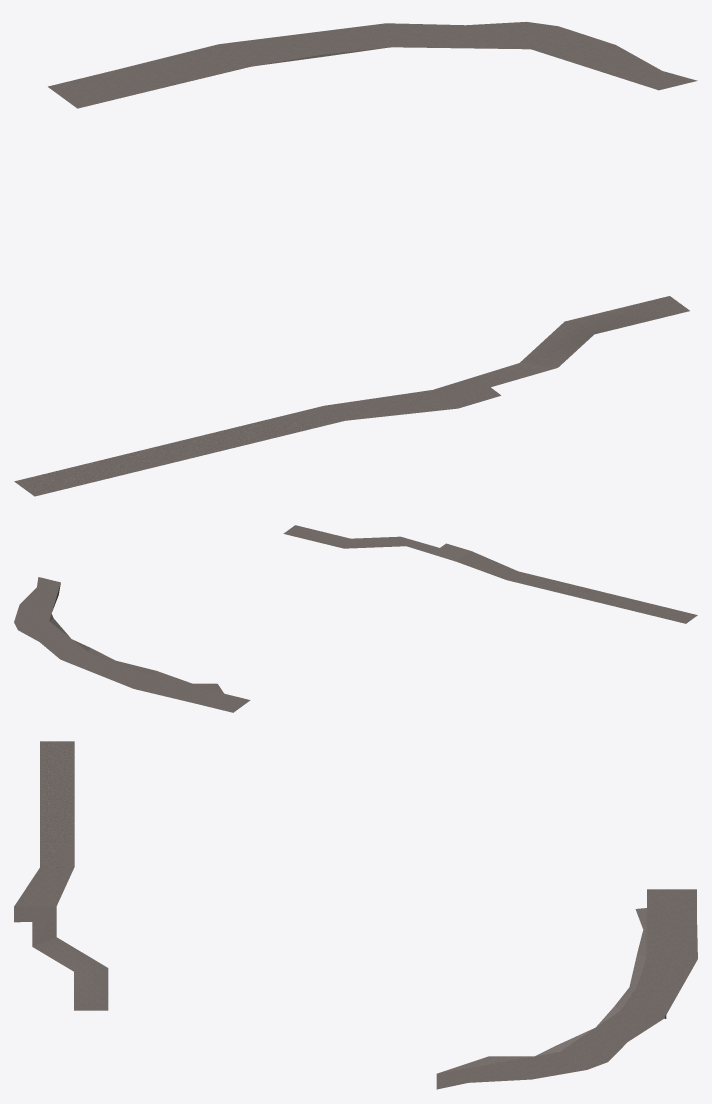
Rendered from kd_stage_136282_1_23.glb.
The picture shows the model from 3 angles, top to bottom: view 1: azimuth 30°, elevation 25°; view 2: azimuth 150°, elevation 25°; view 3: azimuth 270°, elevation 25°; orthographic projection. The views are drawn at different scales.
Parts seen in each view (by area): view 1: kd_stage_136282_1_23; view 2: kd_stage_136282_1_23; view 3: kd_stage_136282_1_23.
Part boxes in pixels (box(x1,y1,x2,y2)): kd_stage_136282_1_23: box(14, 21, 697, 496); kd_stage_136282_1_23: box(14, 525, 697, 712); kd_stage_136282_1_23: box(14, 741, 697, 1089).
Bounding box in the file's own units: 49.75 × 1.5 × 39.34.
Materials: 1 (1 with a texture image).
